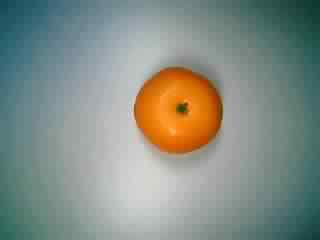orange: (125, 60, 223, 158)
